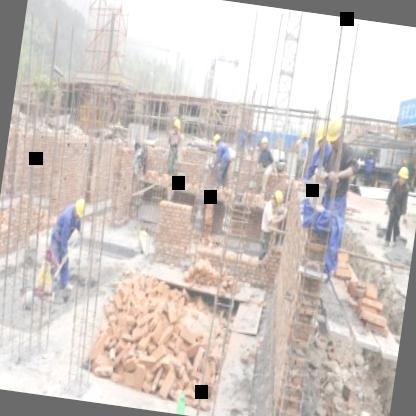helmet: (323, 113, 346, 154), (313, 122, 334, 152), (70, 195, 90, 223), (394, 164, 413, 188), (269, 188, 285, 210), (210, 129, 223, 149), (170, 114, 182, 134)
